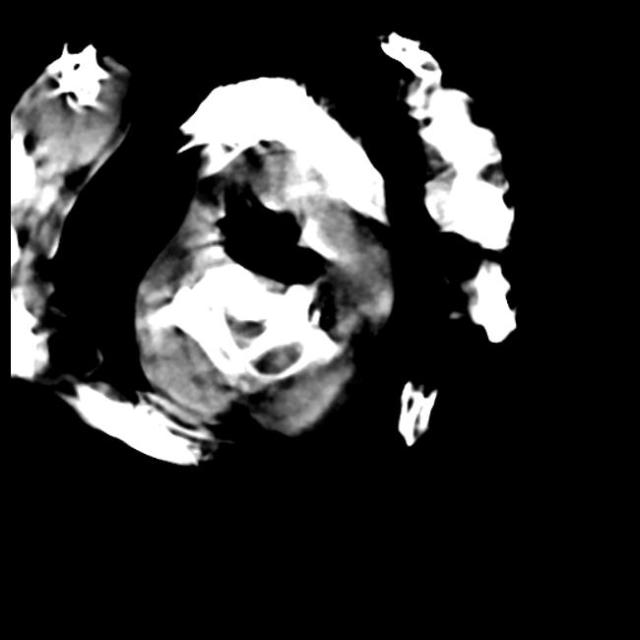lesion: (8, 28, 529, 470)
